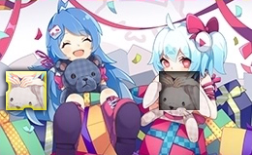gap: (158, 71, 199, 111)
